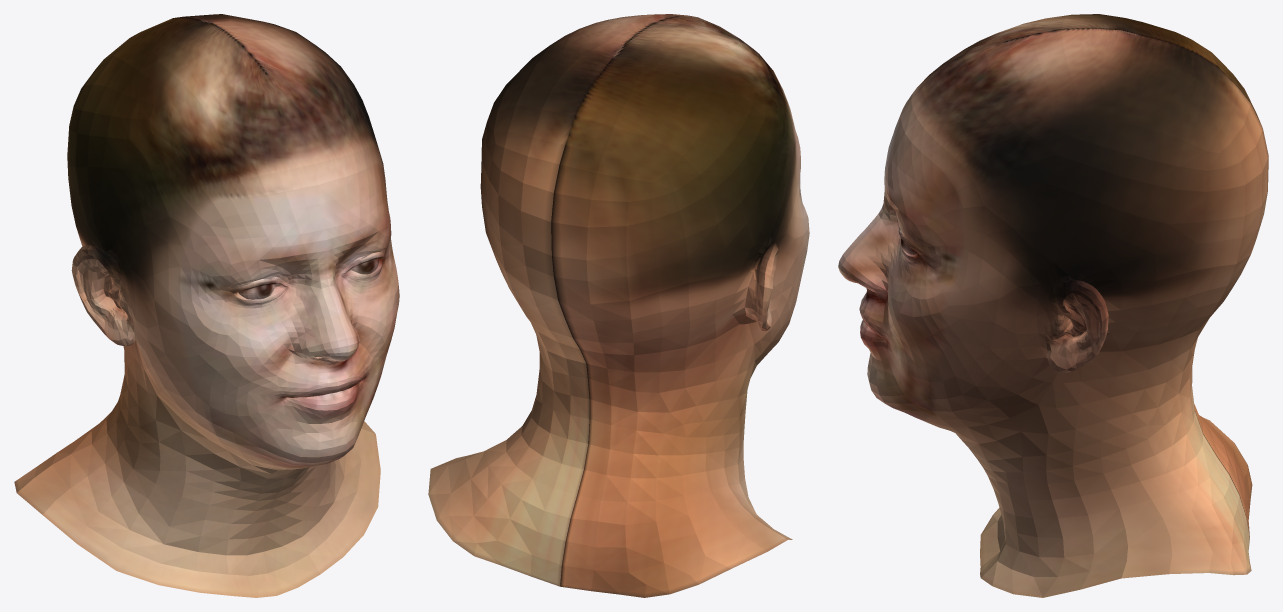
The model's file is man0.fbx.
3 renders of one model, left to right at view 1: azimuth 30°, elevation 25°; view 2: azimuth 150°, elevation 25°; view 3: azimuth 270°, elevation 25°, orthographic. The views are drawn at different scales.
Parts seen in each view (by area): view 1: man0; view 2: man0; view 3: man0.
Boxes of the visible parts, bbox=[...] form: man0: bbox=[14, 14, 399, 597]; man0: bbox=[428, 14, 809, 597]; man0: bbox=[838, 14, 1268, 597].
Size of the model in its own units: 21.3 by 31.59 by 22.84.
1 material, 1 textured.
